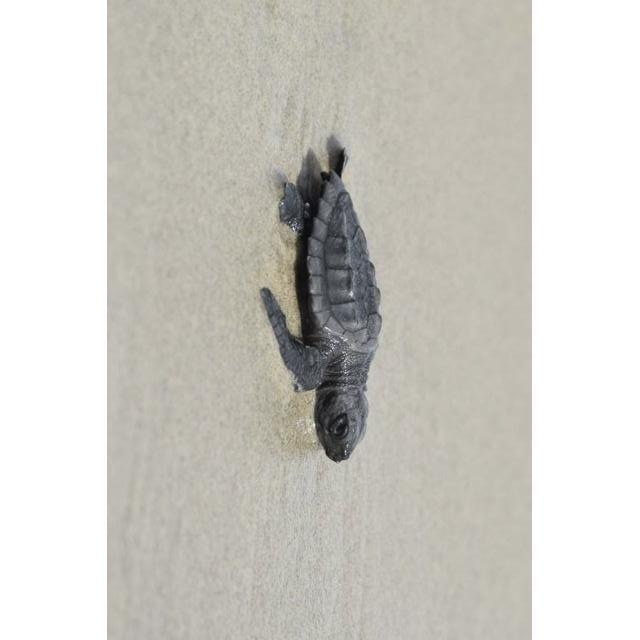turtle: (261, 150, 383, 467)
